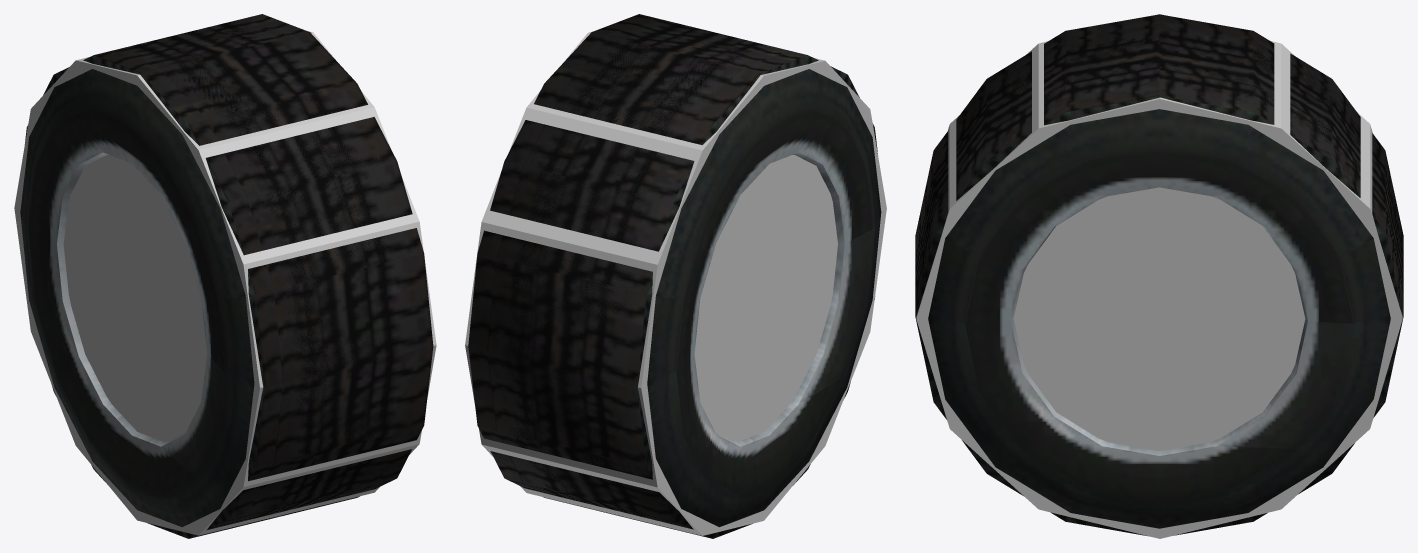
The model's file is tire_2_out.fbx.
The picture shows the model from 3 angles, left to right: view 1: azimuth 30°, elevation 25°; view 2: azimuth 150°, elevation 25°; view 3: azimuth 270°, elevation 25°; orthographic projection.
Parts seen in each view (by area): view 1: Surface4, tire_rl_shadow, Surface8, Surface6, Surface10, tire_rr_shadow, tire_fl_shadow, Surface9; view 2: Surface4, Surface8, tire_rl_shadow, Surface10, Surface6, tire_fl_shadow, tire_rr_shadow, Surface9; view 3: tire_rl_shadow, Surface8, Surface4, Surface6, Surface10, tire_rr_shadow, Surface5, tire_fl_shadow.
Part boxes in pixels (bbox=[...]): Surface4: bbox=[20, 32, 433, 538]; tire_rl_shadow: bbox=[14, 31, 436, 535]; Surface8: bbox=[20, 14, 423, 538]; Surface6: bbox=[114, 33, 405, 525]; Surface10: bbox=[145, 21, 402, 509]; tire_rr_shadow: bbox=[76, 43, 436, 483]; tire_fl_shadow: bbox=[212, 108, 404, 531]; Surface9: bbox=[57, 152, 185, 446]; Surface4: bbox=[468, 14, 881, 538]; Surface8: bbox=[468, 14, 881, 538]; tire_rl_shadow: bbox=[465, 32, 886, 535]; Surface10: bbox=[487, 18, 788, 524]; Surface6: bbox=[487, 36, 788, 494]; tire_fl_shadow: bbox=[496, 107, 689, 487]; tire_rr_shadow: bbox=[465, 50, 824, 524]; Surface9: bbox=[716, 152, 844, 446]; tire_rl_shadow: bbox=[916, 97, 1402, 538]; Surface8: bbox=[915, 14, 1398, 535]; Surface4: bbox=[915, 14, 1403, 535]; Surface6: bbox=[925, 23, 1403, 307]; Surface10: bbox=[915, 24, 1399, 288]; tire_rr_shadow: bbox=[916, 14, 1402, 317]; Surface5: bbox=[1011, 196, 1307, 455]; tire_fl_shadow: bbox=[1032, 57, 1372, 207].
Bounding box in the file's own units: 0.3138 × 0.6798 × 0.6798.
